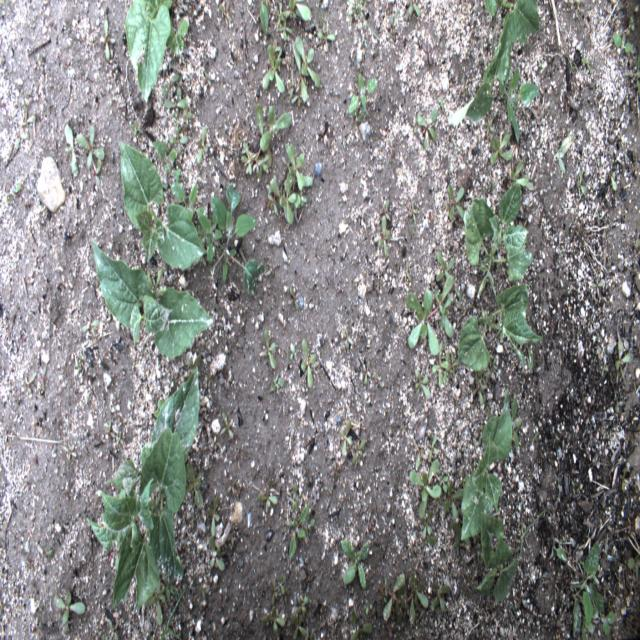crop: (84, 366, 202, 618), (92, 236, 219, 362), (454, 382, 524, 604), (445, 0, 543, 145), (118, 136, 204, 272), (193, 176, 266, 300), (464, 182, 537, 296), (456, 285, 542, 380), (122, 0, 191, 109), (569, 539, 617, 637)
weed: (411, 432, 462, 542), (380, 566, 432, 630), (284, 479, 317, 564), (328, 418, 369, 482), (251, 327, 290, 394), (406, 283, 442, 354), (338, 527, 374, 595), (290, 33, 322, 109), (160, 61, 196, 127), (145, 587, 191, 638), (257, 101, 293, 164), (49, 579, 89, 635), (101, 388, 129, 465), (261, 569, 291, 636), (148, 124, 190, 170), (268, 171, 300, 231), (349, 0, 382, 58), (280, 142, 316, 192), (78, 118, 104, 185), (347, 71, 380, 123), (484, 120, 515, 175), (14, 94, 39, 160), (608, 15, 638, 69), (274, 0, 313, 41), (260, 44, 288, 99), (472, 356, 499, 413), (346, 593, 380, 638), (429, 344, 460, 393), (371, 193, 394, 257), (20, 359, 50, 407), (550, 127, 576, 182), (444, 180, 472, 228), (416, 104, 440, 160), (169, 164, 199, 208), (555, 429, 592, 464), (296, 335, 318, 393), (516, 509, 548, 547), (98, 12, 120, 67), (288, 590, 314, 636), (437, 276, 456, 337), (408, 362, 435, 404), (217, 406, 240, 455), (63, 120, 82, 179), (95, 602, 127, 636), (359, 356, 389, 392), (613, 329, 632, 385), (584, 258, 606, 306), (429, 251, 460, 285), (414, 29, 439, 71), (568, 157, 591, 202), (193, 575, 220, 611), (431, 572, 450, 623), (202, 496, 226, 536), (549, 534, 574, 572), (257, 474, 281, 513), (206, 531, 226, 575), (225, 460, 245, 504), (256, 3, 274, 47), (282, 282, 306, 314), (314, 20, 337, 53), (339, 319, 358, 358), (195, 130, 215, 166), (595, 344, 610, 392), (56, 438, 77, 472), (196, 64, 217, 98), (126, 110, 148, 138), (217, 0, 236, 32), (606, 162, 623, 196), (509, 161, 531, 187), (239, 138, 253, 176), (624, 549, 638, 585), (71, 346, 85, 382), (532, 47, 551, 73), (387, 0, 399, 41), (405, 1, 424, 26), (580, 49, 598, 75), (612, 392, 628, 421), (9, 174, 25, 202), (568, 475, 583, 499), (80, 319, 98, 338), (283, 337, 296, 363), (256, 148, 267, 176), (406, 198, 418, 223), (38, 546, 50, 561)
